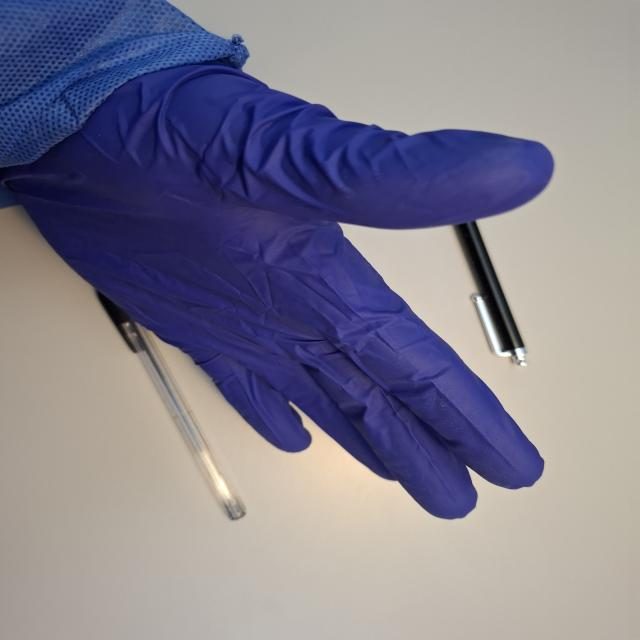glove_on: (2, 32, 558, 523)
